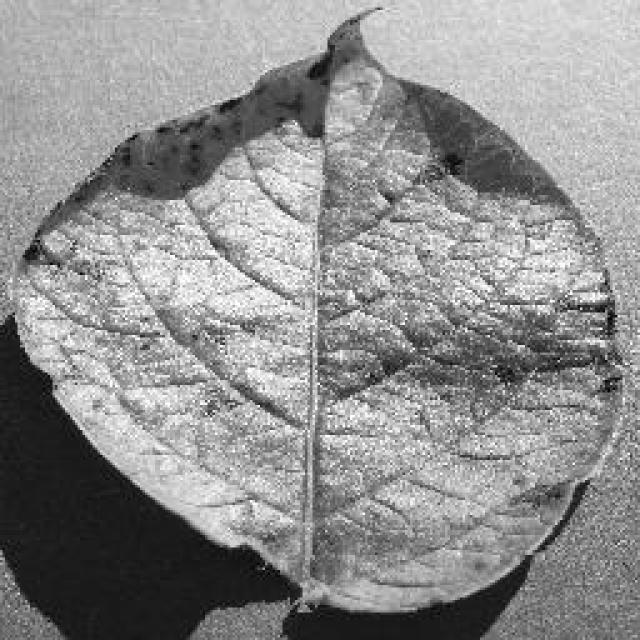Potato: (8, 2, 628, 618)
